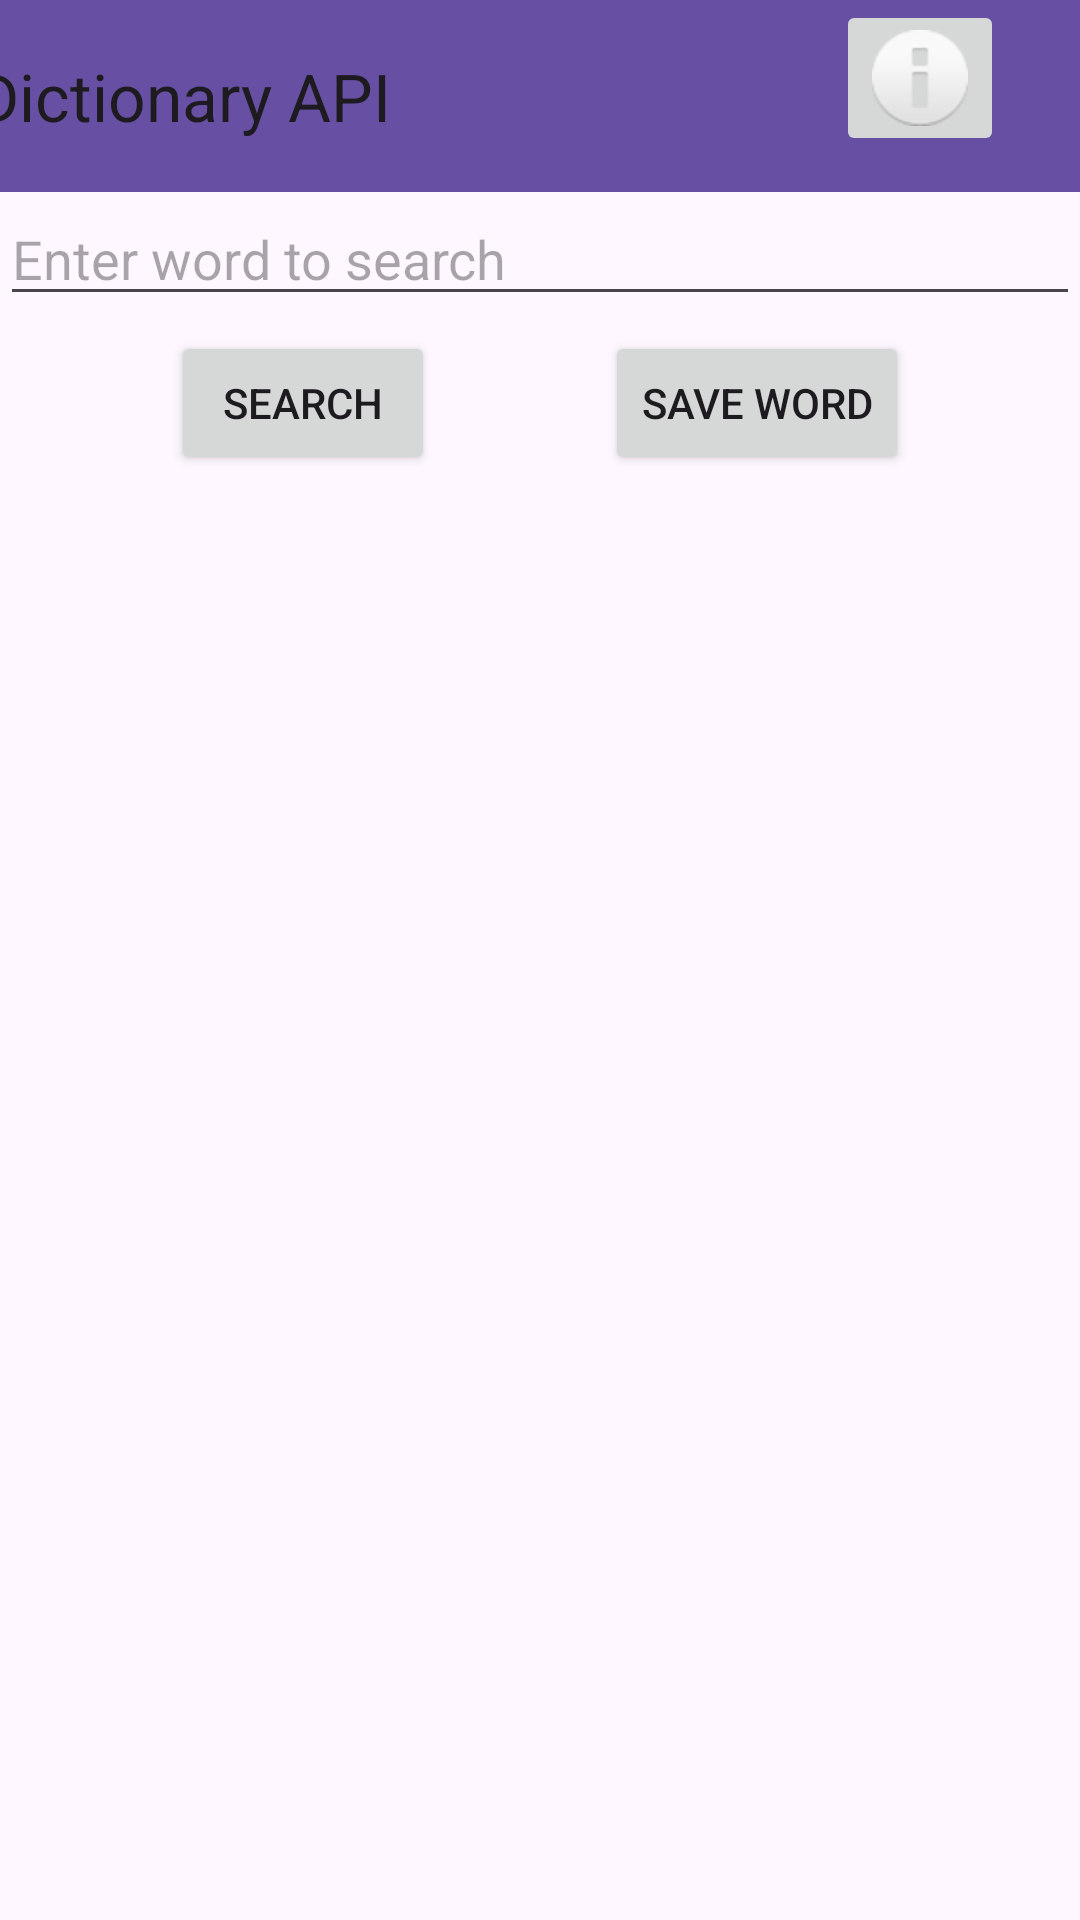

Screen size 1080*1920. Icon name, then its center in pixels as point (x, y):
info: point (920, 78)
